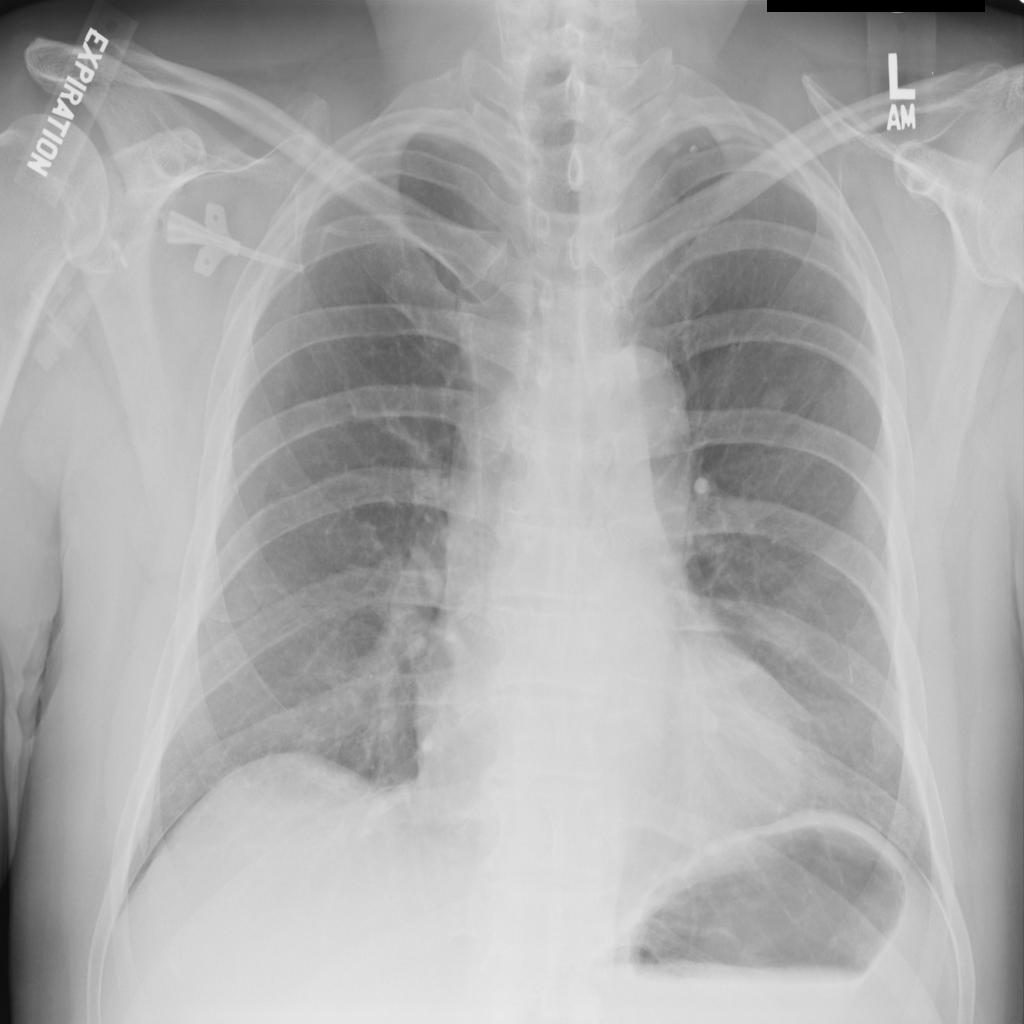nodule: (748, 594, 825, 674), (854, 695, 919, 774), (753, 373, 799, 430)
